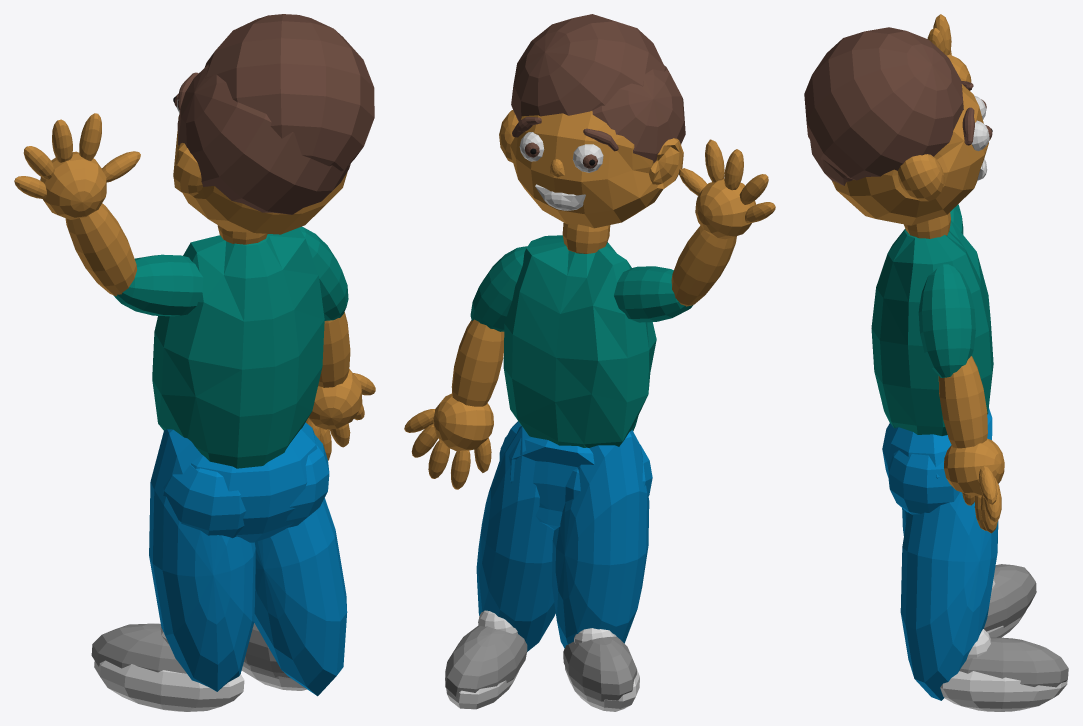
Rendered from boy.gltf.
The picture shows the model from 3 angles, left to right: view 1: azimuth 30°, elevation 25°; view 2: azimuth 150°, elevation 25°; view 3: azimuth 270°, elevation 25°; orthographic projection. The views are drawn at different scales.
Parts seen in each view (by area): view 1: node_MeshObject144264384-PolyPaper21, node_MeshObject444036416-PolyPaper19; view 2: node_MeshObject144264384-PolyPaper21, node_MeshObject444036416-PolyPaper19; view 3: node_MeshObject144264384-PolyPaper21, node_MeshObject444036416-PolyPaper19.
Part boxes in pixels (x1,y1,x2,y2): node_MeshObject144264384-PolyPaper21: (65,64,375,696); node_MeshObject444036416-PolyPaper19: (14,14,374,711); node_MeshObject144264384-PolyPaper21: (404,65,736,709); node_MeshObject444036416-PolyPaper19: (433,14,775,711); node_MeshObject144264384-PolyPaper21: (810,84,1068,711); node_MeshObject444036416-PolyPaper19: (804,14,1026,659).
Bounding box in the file's own units: 1.63 × 2.89 × 1.07.
